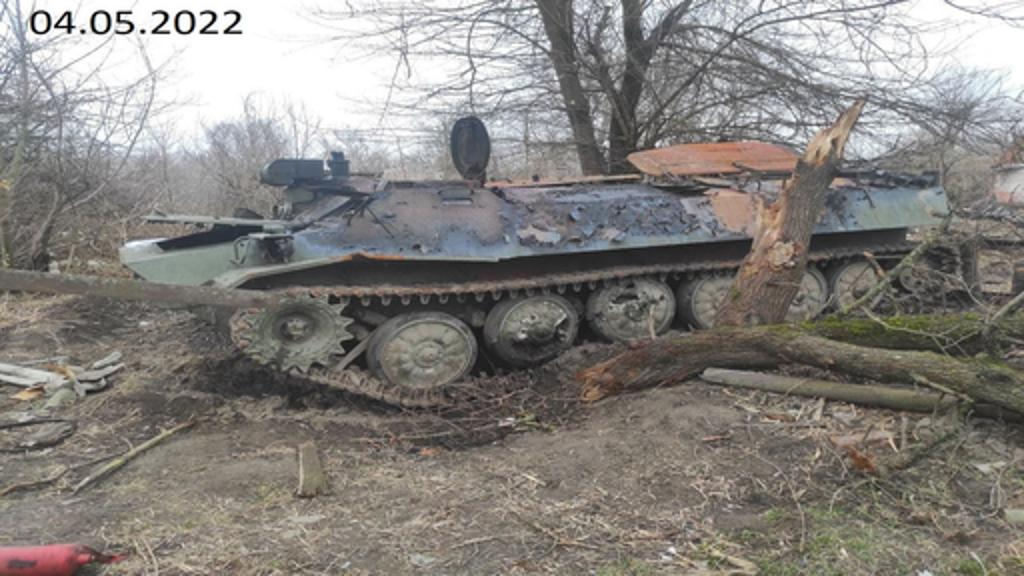APC-IFV: (118, 140, 946, 398)
